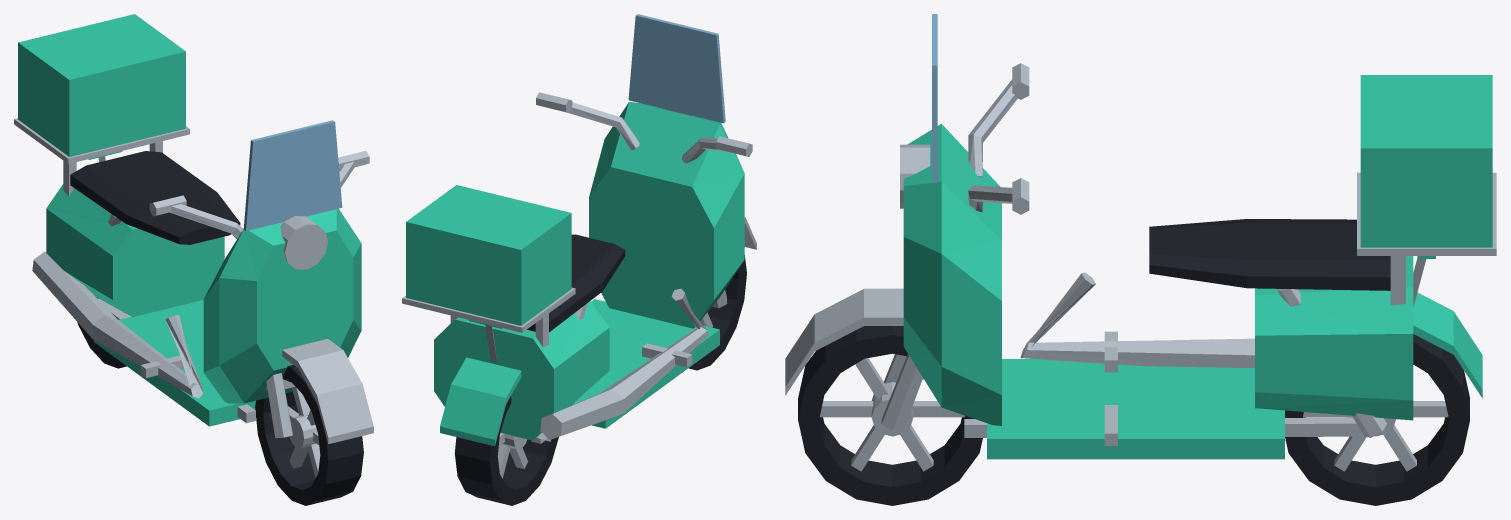
File: step-through.glb
3 views of the same model, side by side, from view 1: azimuth 30°, elevation 25°; view 2: azimuth 150°, elevation 25°; view 3: azimuth 270°, elevation 25° (orthographic). The views are drawn at different scales.
Visible parts, largest first — view 1: bike_body, fork_mesh, wheel_front, wheel_rear; view 2: bike_body, wheel_rear, fork_mesh, wheel_front; view 3: bike_body, wheel_front, wheel_rear, fork_mesh.
Part boxes in pixels (x1,y1,x2,y2): bike_body: (14,14,361,426); fork_mesh: (149,151,373,444); wheel_front: (255,365,363,505); wheel_rear: (77,313,130,368); bike_body: (402,14,744,446); wheel_rear: (454,396,558,505); fork_mesh: (536,92,756,308); wheel_front: (688,255,746,370); bike_body: (900,14,1496,459); wheel_front: (798,326,982,505); wheel_rear: (1285,334,1469,505); fork_mesh: (785,63,1029,431).
Bounding box in the file's own units: 0.84 × 1.33 × 1.88.
